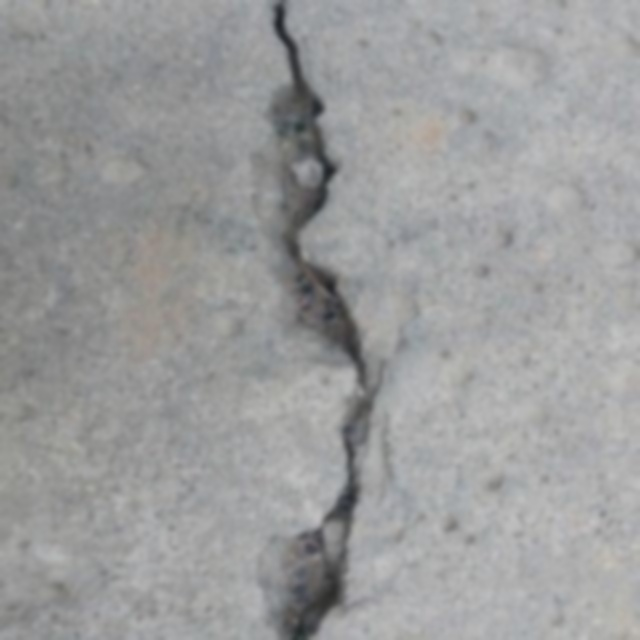SurfaceCrack: (234, 0, 392, 640)
